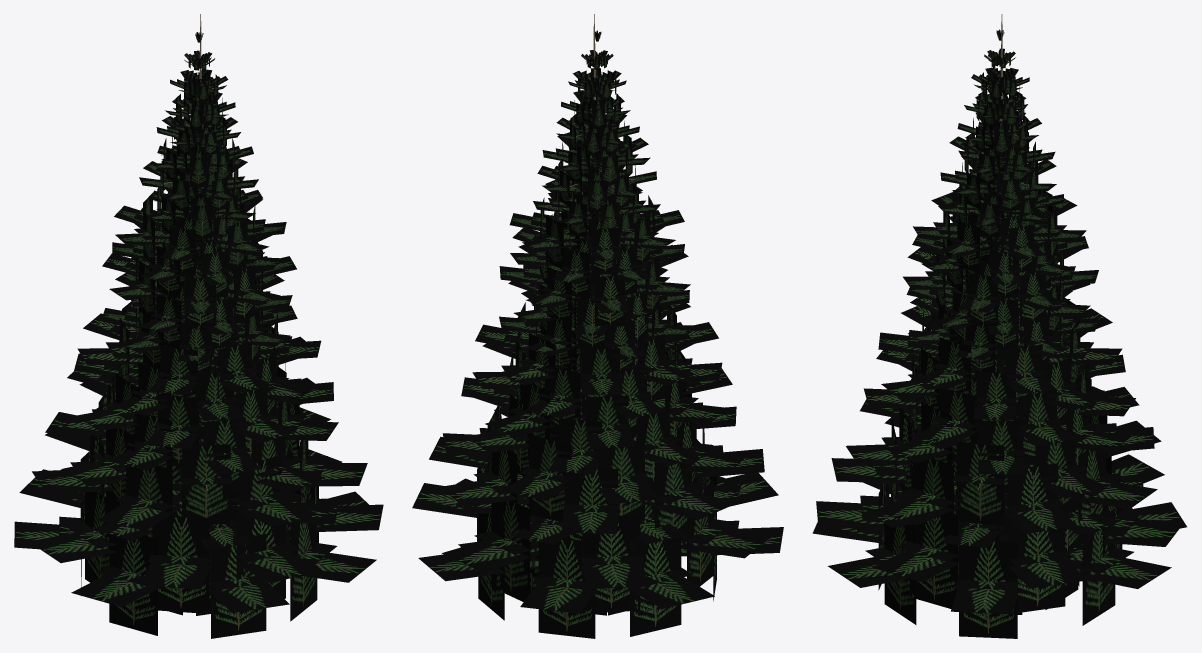
Rendered from Fir_0_LOD0.glb.
3 renders of one model, left to right at view 1: azimuth 30°, elevation 25°; view 2: azimuth 150°, elevation 25°; view 3: azimuth 270°, elevation 25°, orthographic.
Visible parts, largest first — view 1: Fir_0_LOD0; view 2: Fir_0_LOD0; view 3: Fir_0_LOD0.
Part boxes in pixels (<box>): Fir_0_LOD0: <box>14,14,383,638</box>; Fir_0_LOD0: <box>412,14,783,638</box>; Fir_0_LOD0: <box>812,14,1186,638</box>.
Size of the model in its own units: 14.2 by 24.22 by 14.32.
Materials: 2 (1 with a texture image).
